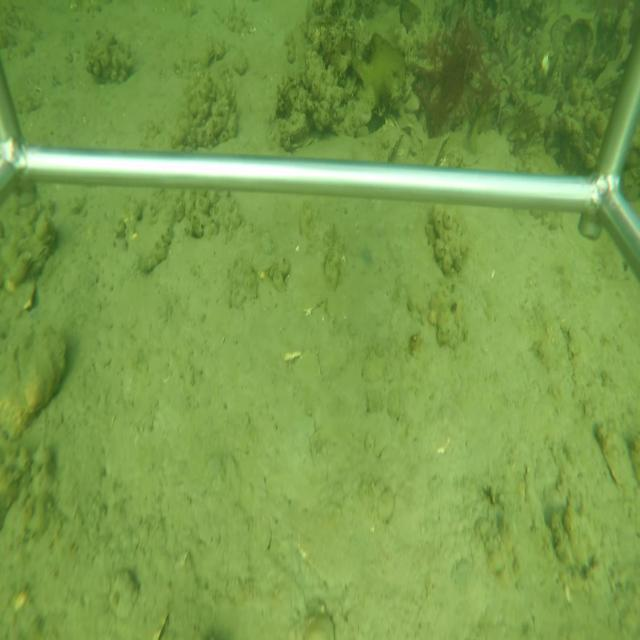Oyster-Closed: (9, 323, 71, 436), (386, 130, 406, 163)
